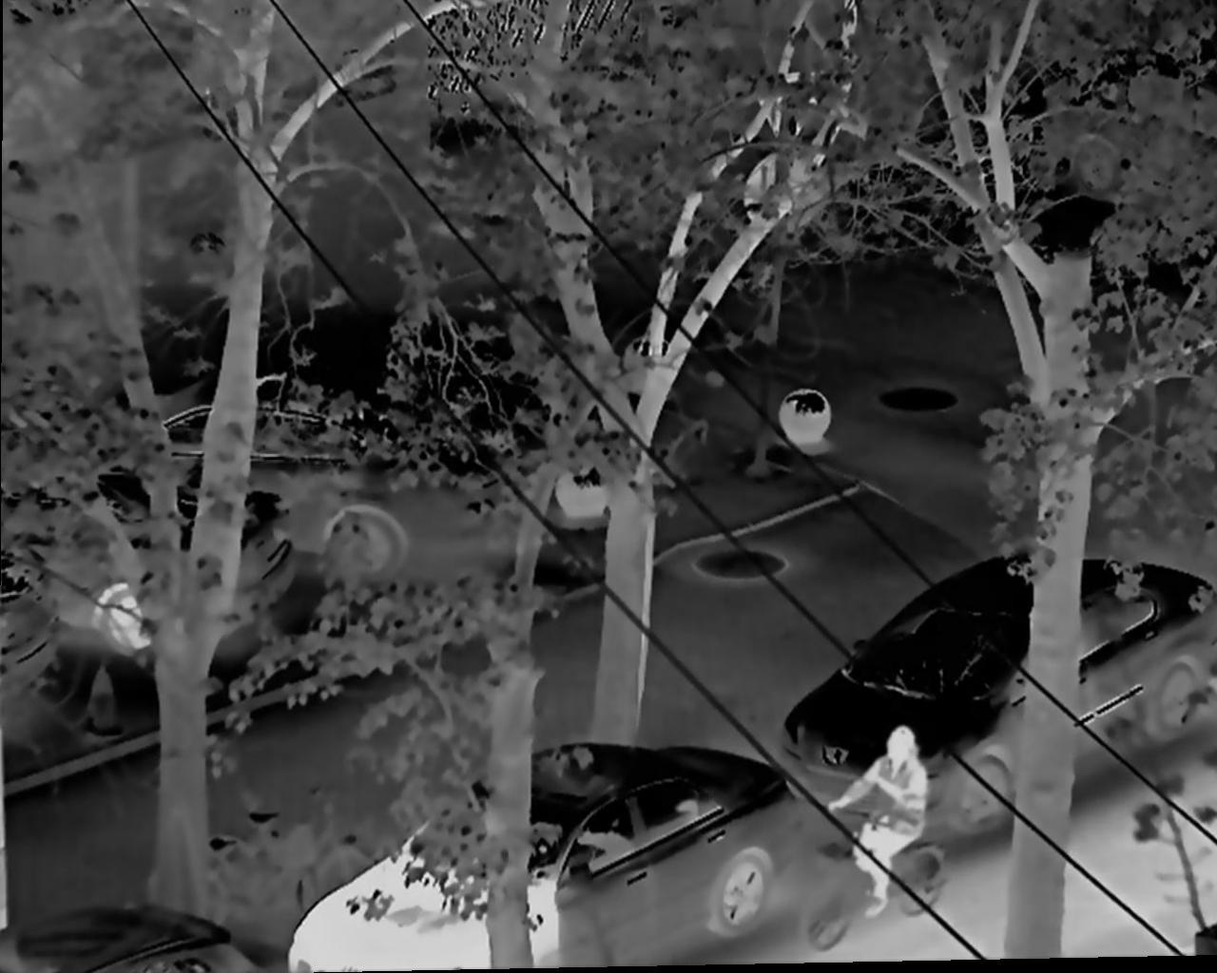person: (827, 723, 927, 917)
